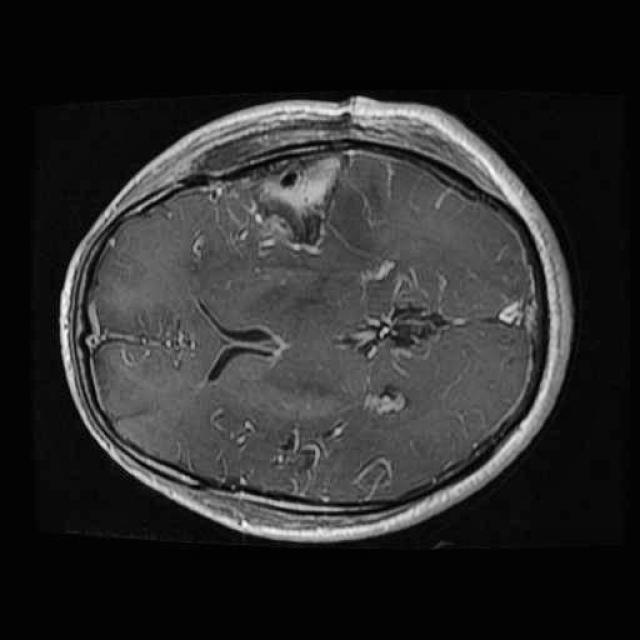Non-Tumor: (206, 135, 359, 265)
